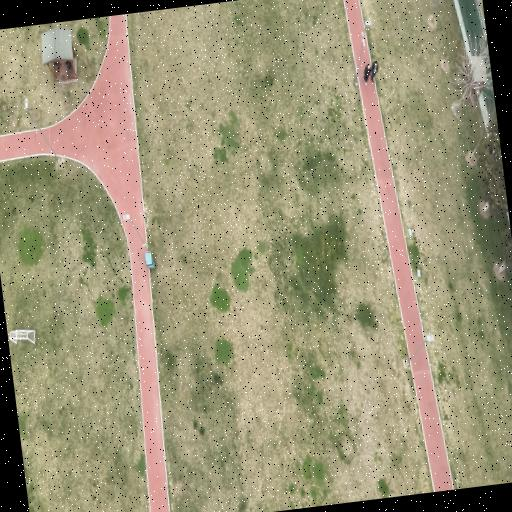person: (370, 61, 377, 81), (363, 64, 369, 85)
